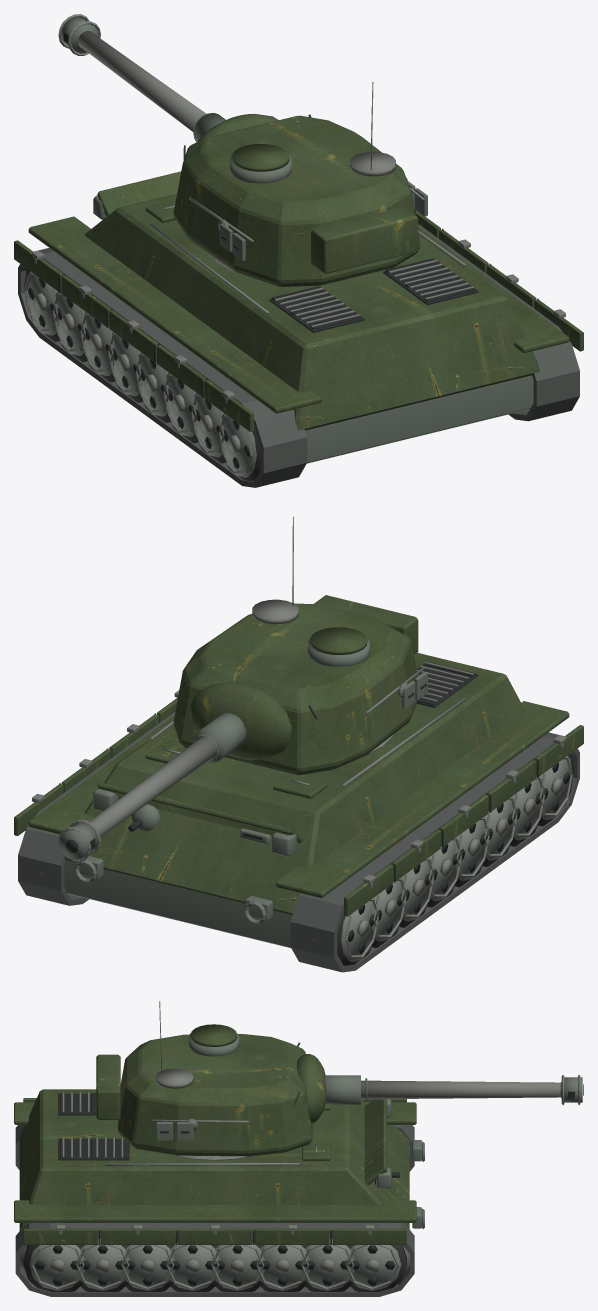
Rendered from panther-g-sample.glb.
The picture shows the model from 3 angles, top to bottom: view 1: azimuth 30°, elevation 25°; view 2: azimuth 150°, elevation 25°; view 3: azimuth 270°, elevation 25°; orthographic projection. The views are drawn at different scales.
Visible parts, largest first — view 1: Hull_RolledSteel_PhotoPaint_PBR, TurretPivot_RolledSteel_PhotoPaint_PBR, RunningGear_TrackWornSteel_DarkPBR, Hull_CastDarkEdges, Hull_DeepRecesses, Hull_WornMachinedSteel, BarrelPivot_WornMachinedSteel, TurretPivot_CastDarkEdges, TurretPivot_WornMachinedSteel, BarrelPivot_CastDarkEdges, L0_PressedDisc, L7_PressedDisc (+6 smaller); view 2: Hull_RolledSteel_PhotoPaint_PBR, TurretPivot_RolledSteel_PhotoPaint_PBR, RunningGear_TrackWornSteel_DarkPBR, Hull_CastDarkEdges, BarrelPivot_WornMachinedSteel, Hull_WornMachinedSteel, BarrelPivot_CastDarkEdges, Hull_DeepRecesses, TurretPivot_CastDarkEdges, TurretPivot_WornMachinedSteel, L7_PressedDisc, L0_PressedDisc (+6 smaller); view 3: Hull_RolledSteel_PhotoPaint_PBR, TurretPivot_RolledSteel_PhotoPaint_PBR, RunningGear_TrackWornSteel_DarkPBR, BarrelPivot_WornMachinedSteel, Hull_DeepRecesses, Hull_WornMachinedSteel, BarrelPivot_CastDarkEdges, R0_PressedDisc, R7_PressedDisc, R4_PressedDisc, R6_PressedDisc, R3_PressedDisc (+16 smaller).
Part boxes in pixels (x1=…): Hull_RolledSteel_PhotoPaint_PBR: x1=14, y1=171, x2=583, y2=431; TurretPivot_RolledSteel_PhotoPaint_PBR: x1=173, y1=113, x2=420, y2=287; RunningGear_TrackWornSteel_DarkPBR: x1=18, y1=224, x2=579, y2=487; Hull_CastDarkEdges: x1=34, y1=195, x2=533, y2=463; Hull_DeepRecesses: x1=59, y1=211, x2=538, y2=397; Hull_WornMachinedSteel: x1=32, y1=205, x2=565, y2=399; BarrelPivot_WornMachinedSteel: x1=58, y1=14, x2=205, y2=131; TurretPivot_CastDarkEdges: x1=218, y1=154, x2=427, y2=260; TurretPivot_WornMachinedSteel: x1=188, y1=82, x2=424, y2=242; BarrelPivot_CastDarkEdges: x1=61, y1=17, x2=225, y2=142; L0_PressedDisc: x1=220, y1=413, x2=256, y2=477; L7_PressedDisc: x1=25, y1=271, x2=58, y2=335; Hull_RolledSteel_PhotoPaint_PBR: x1=14, y1=652, x2=583, y2=916; TurretPivot_RolledSteel_PhotoPaint_PBR: x1=173, y1=595, x2=418, y2=775; RunningGear_TrackWornSteel_DarkPBR: x1=18, y1=712, x2=579, y2=972; Hull_CastDarkEdges: x1=34, y1=732, x2=563, y2=947; BarrelPivot_WornMachinedSteel: x1=58, y1=735, x2=219, y2=861; Hull_WornMachinedSteel: x1=32, y1=662, x2=565, y2=923; BarrelPivot_CastDarkEdges: x1=59, y1=713, x2=246, y2=859; Hull_DeepRecesses: x1=59, y1=661, x2=538, y2=882; TurretPivot_CastDarkEdges: x1=308, y1=638, x2=427, y2=708; TurretPivot_WornMachinedSteel: x1=252, y1=516, x2=424, y2=713; L7_PressedDisc: x1=341, y1=898, x2=374, y2=961; L0_PressedDisc: x1=538, y1=756, x2=572, y2=819; Hull_RolledSteel_PhotoPaint_PBR: x1=14, y1=1089, x2=416, y2=1244; TurretPivot_RolledSteel_PhotoPaint_PBR: x1=96, y1=1024, x2=326, y2=1156; RunningGear_TrackWornSteel_DarkPBR: x1=15, y1=1125, x2=414, y2=1296; BarrelPivot_WornMachinedSteel: x1=361, y1=1075, x2=580, y2=1104; Hull_DeepRecesses: x1=58, y1=1093, x2=399, y2=1244; Hull_WornMachinedSteel: x1=56, y1=1092, x2=424, y2=1230; BarrelPivot_CastDarkEdges: x1=325, y1=1075, x2=582, y2=1104; R0_PressedDisc: x1=29, y1=1245, x2=84, y2=1290; R7_PressedDisc: x1=345, y1=1245, x2=401, y2=1290; R4_PressedDisc: x1=211, y1=1242, x2=264, y2=1290; R6_PressedDisc: x1=300, y1=1239, x2=354, y2=1290; R3_PressedDisc: x1=166, y1=1242, x2=219, y2=1290.
Bounding box in the file's own units: 4.52 × 3.91 × 8.11.
7 materials, 1 textured.
